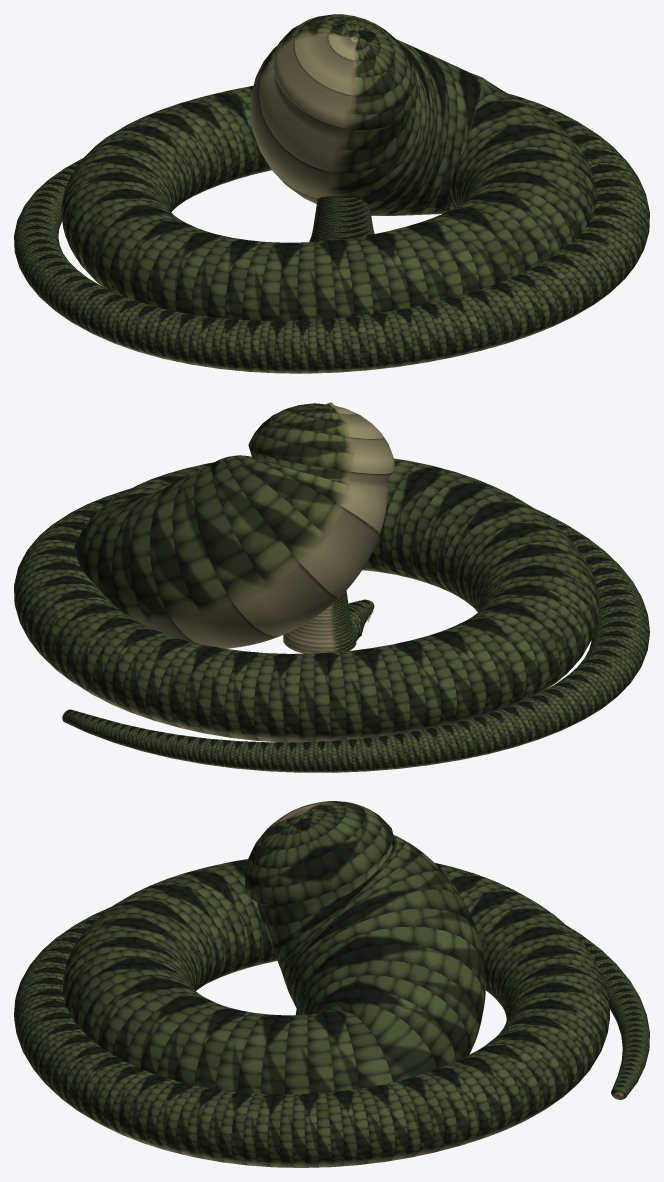
The model's file is hidra.glb.
The picture shows the model from 3 angles, top to bottom: view 1: azimuth 30°, elevation 25°; view 2: azimuth 150°, elevation 25°; view 3: azimuth 270°, elevation 25°; orthographic projection. The views are drawn at different scales.
Parts seen in each view (by area): view 1: HY_cuerpo, HY_cuello; view 2: HY_cuerpo, HY_cuello, HY_cabeza; view 3: HY_cuerpo.
Boxes of the visible parts, x1=… form: HY_cuerpo: x1=14, y1=14, x2=649, y2=373; HY_cuello: x1=309, y1=195, x2=374, y2=241; HY_cuerpo: x1=14, y1=402, x2=649, y2=772; HY_cuello: x1=283, y1=590, x2=356, y2=653; HY_cabeza: x1=348, y1=599, x2=374, y2=639; HY_cuerpo: x1=14, y1=801, x2=649, y2=1167.
Bounding box in the file's own units: 6.37 × 2.63 × 6.09.
Materials: 5 (2 with a texture image).
